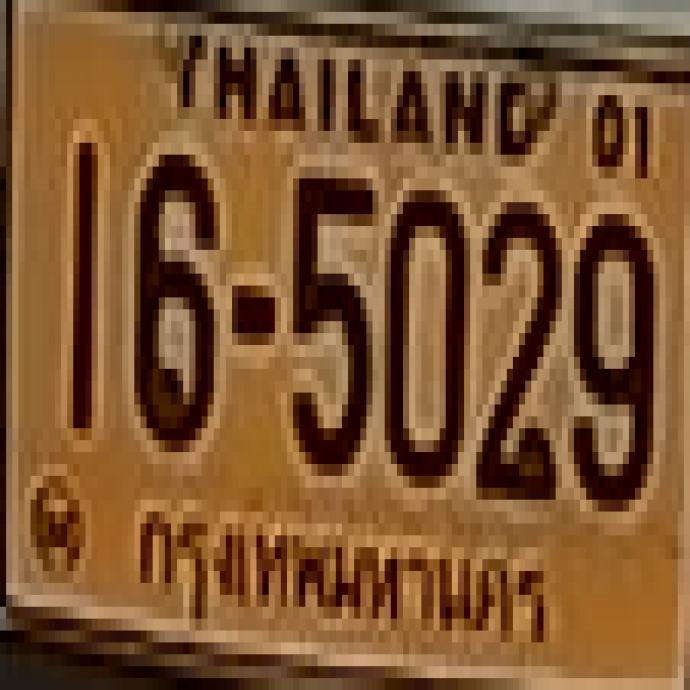0: (382, 179, 463, 475)
1: (67, 136, 91, 428)
2: (474, 192, 555, 491)
5: (288, 167, 370, 466)
6: (132, 144, 210, 439)
9: (569, 205, 649, 499)
BKK: (126, 491, 556, 657)
